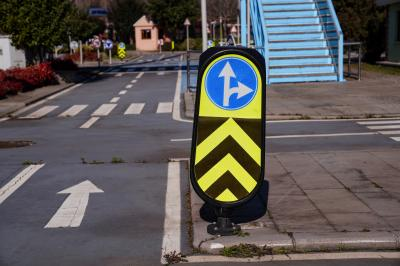ileri_veya_saga: (202, 52, 261, 111)
